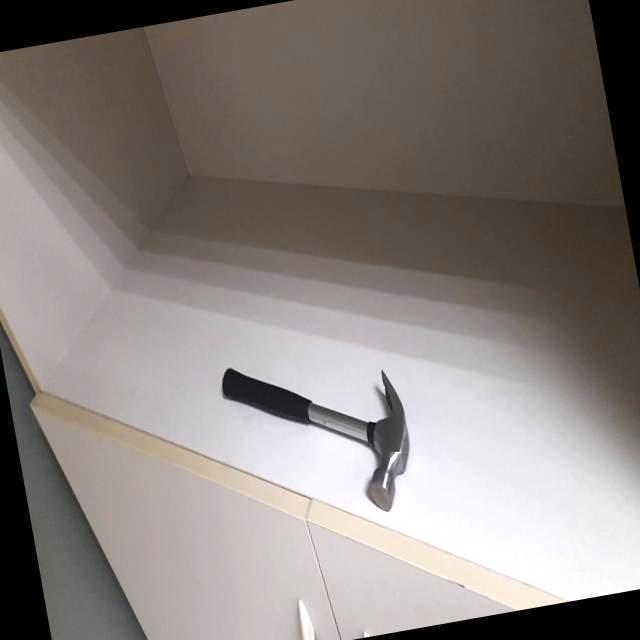hammer: (220, 360, 408, 512)
